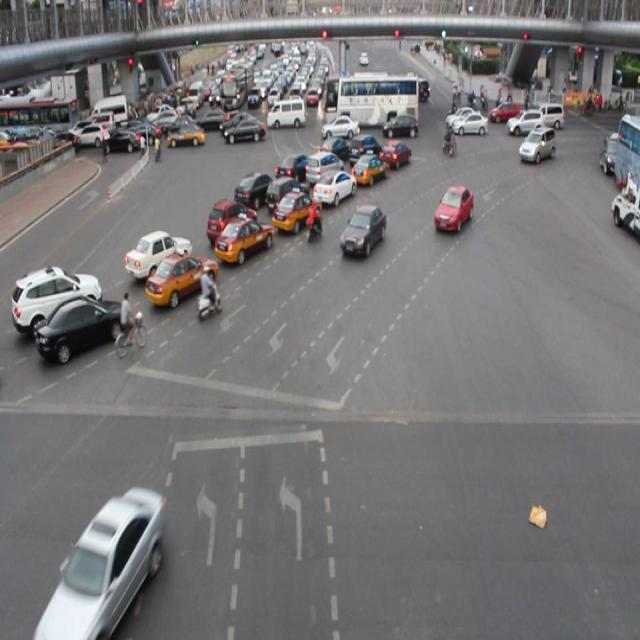car: (48, 507, 167, 627), (38, 294, 131, 360), (15, 266, 104, 334), (145, 252, 218, 304), (124, 229, 193, 279), (214, 216, 274, 258), (339, 204, 385, 256), (205, 198, 258, 242), (274, 188, 317, 233), (433, 187, 473, 228), (266, 176, 308, 215), (236, 170, 274, 210), (312, 171, 355, 206), (518, 125, 555, 164), (350, 151, 389, 187), (276, 152, 314, 187), (347, 133, 382, 168), (378, 137, 412, 172), (306, 151, 343, 183), (316, 137, 351, 168)
